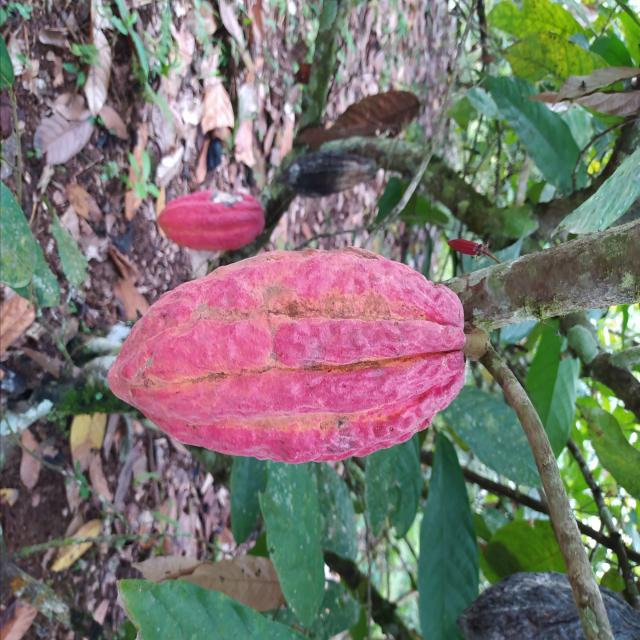Fitoftora: (452, 574, 640, 640)
Monilia: (156, 190, 267, 252)
Sana: (106, 248, 468, 465)
